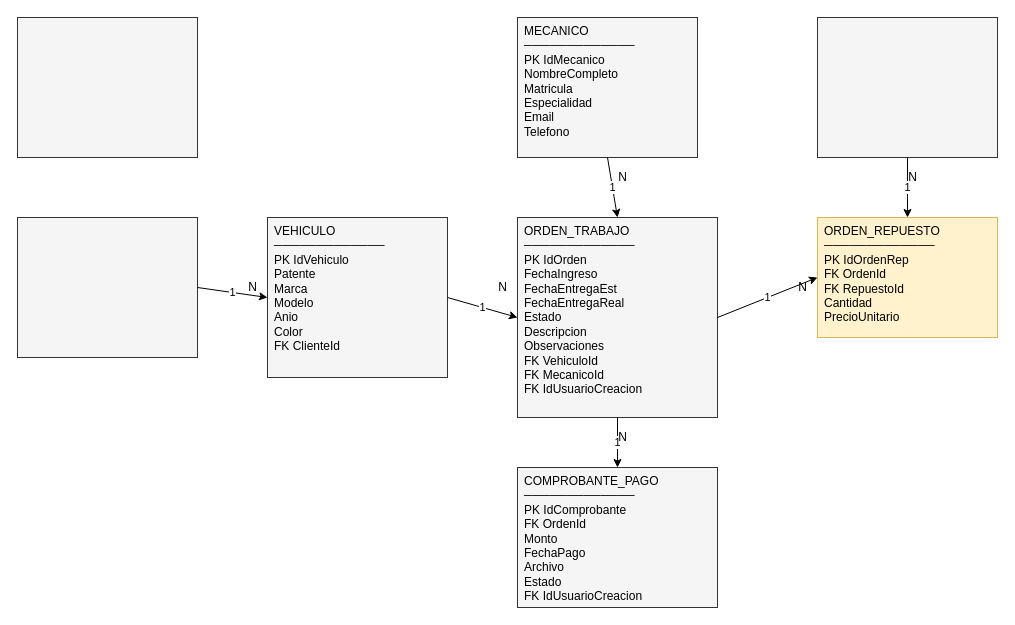
Image size: 1015x625. Some labels were removed from this diagram. The shapes that lost their labels are listed below. From the top down, each one's centre as x and y in pixels, then its label:
the point at 107,87: USUARIO ───────────── PK IdUsuario NombreCompleto Email PasswordHash Rol Avatar
the point at 907,87: REPUESTO ───────────── PK IdRepuesto Nombre Codigo Precio Stock Foto
the point at 107,287: CLIENTE ───────────── PK IdCliente NombreCompleto DNI Telefono Email Direccion
